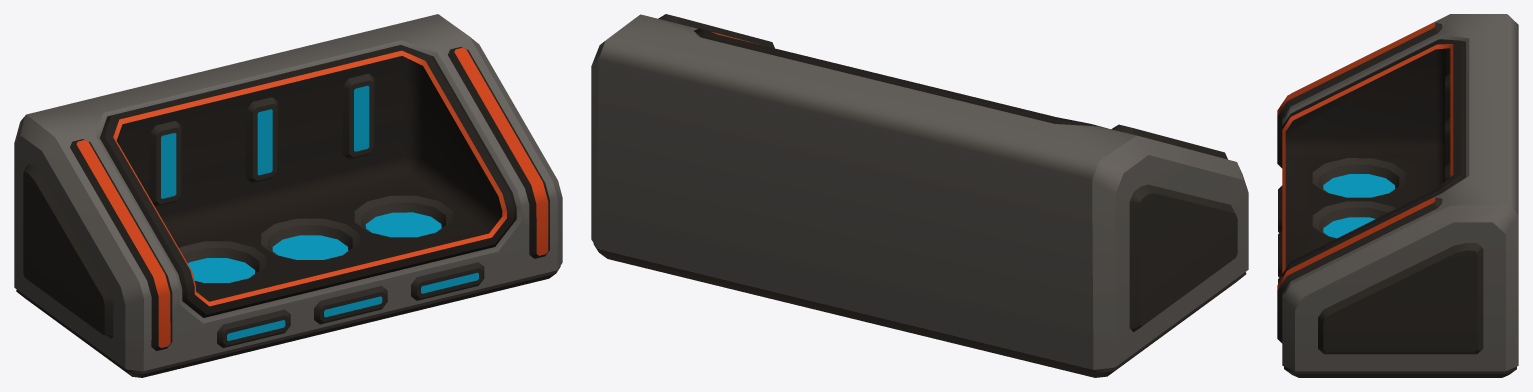
Rendered from Charging_Station_02.fbx.
The picture shows the model from 3 angles, left to right: view 1: azimuth 30°, elevation 25°; view 2: azimuth 150°, elevation 25°; view 3: azimuth 270°, elevation 25°; orthographic projection. The views are drawn at different scales.
Parts seen in each view (by area): view 1: Charging_Station_02; view 2: Charging_Station_02; view 3: Charging_Station_02.
Part boxes in pixels (<box>): Charging_Station_02: <box>14,14,562,377</box>; Charging_Station_02: <box>591,14,1248,377</box>; Charging_Station_02: <box>1277,14,1518,377</box>.
Size of the model in its own units: 35.87 by 14 by 17.64.
